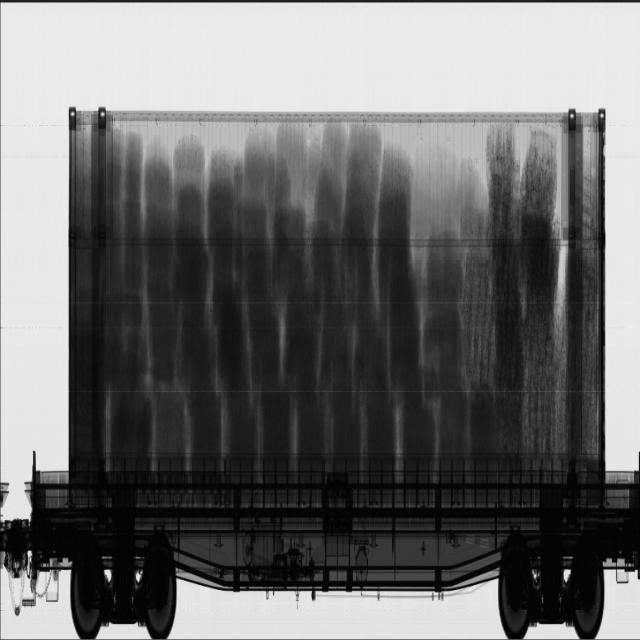textiles: (71, 117, 497, 474)
